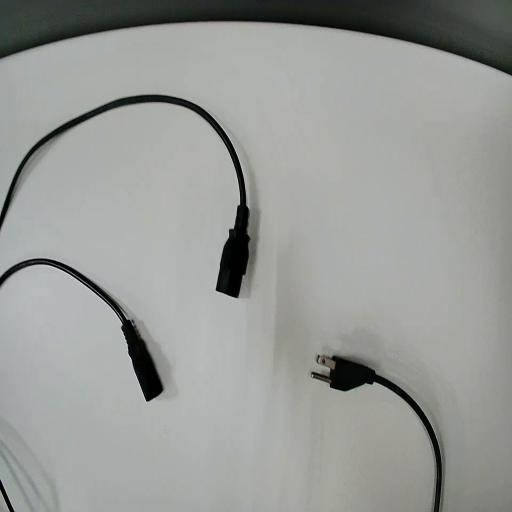wire: (0, 96, 249, 296), (0, 260, 162, 399), (313, 356, 441, 511)
